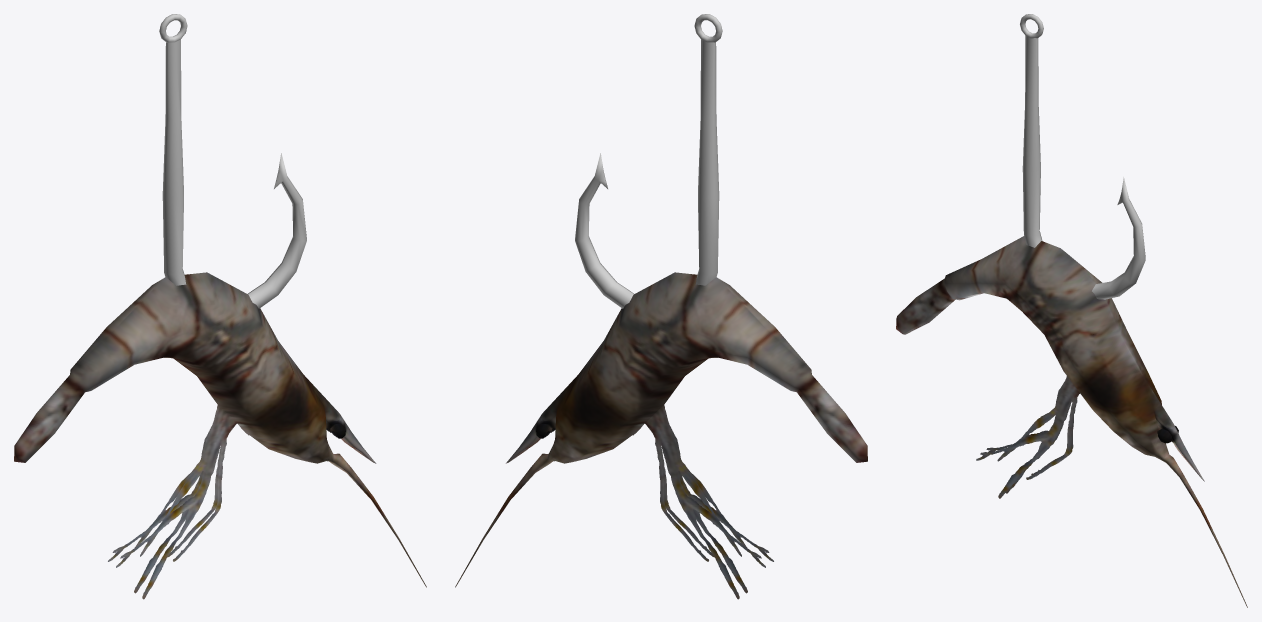
The model's file is Bait_FreshwaterShrimp.fbx.
3 renders of one model, left to right at view 1: azimuth 30°, elevation 25°; view 2: azimuth 150°, elevation 25°; view 3: azimuth 330°, elevation 25°, orthographic. The views are drawn at different scales.
Parts seen in each view (by area): view 1: Bait_FreshwaterShrimp; view 2: Bait_FreshwaterShrimp; view 3: Bait_FreshwaterShrimp.
Part boxes in pixels (x1,y1,x2,y2): Bait_FreshwaterShrimp: [14, 14, 426, 599]; Bait_FreshwaterShrimp: [455, 14, 867, 599]; Bait_FreshwaterShrimp: [896, 14, 1247, 607].
Size of the model in its own units: 0.5932 by 0.8721 by 0.1116.
